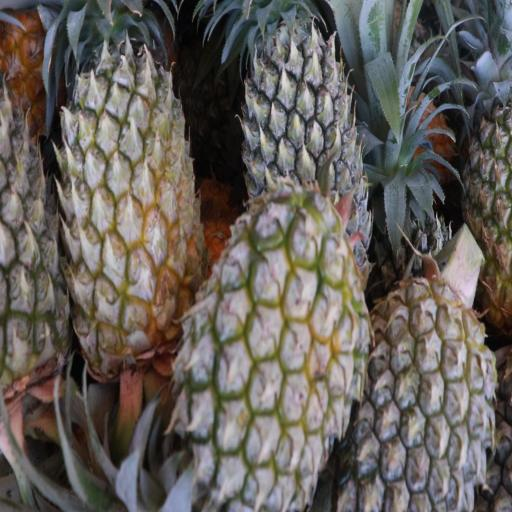------------------------------: (189, 197, 367, 512), (66, 0, 201, 367)
